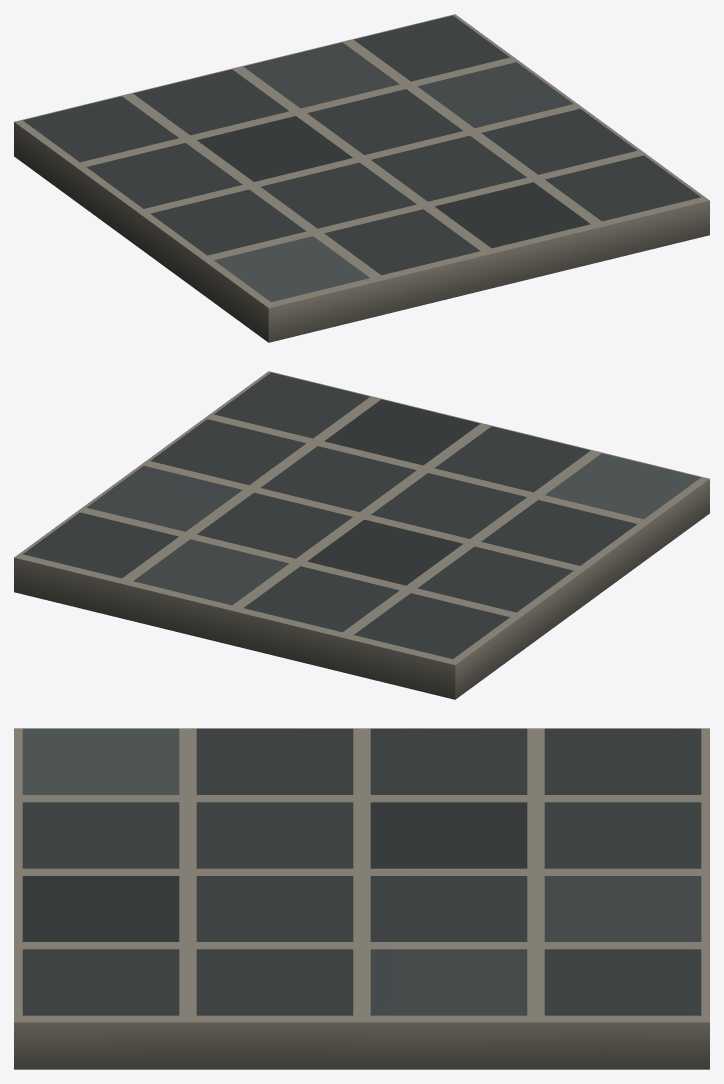
Rendered from Pavement_1B.fbx.
The picture shows the model from 3 angles, top to bottom: view 1: azimuth 30°, elevation 25°; view 2: azimuth 150°, elevation 25°; view 3: azimuth 270°, elevation 25°; orthographic projection. The views are drawn at different scales.
Parts seen in each view (by area): view 1: Pavement_1B; view 2: Pavement_1B; view 3: Pavement_1B.
Boxes of the visible parts, x1,y1,x2,y2 form: Pavement_1B: [14, 14, 709, 342]; Pavement_1B: [14, 371, 709, 699]; Pavement_1B: [14, 728, 709, 1069].
Bounding box in the file's own units: 4 × 0.32 × 4.
